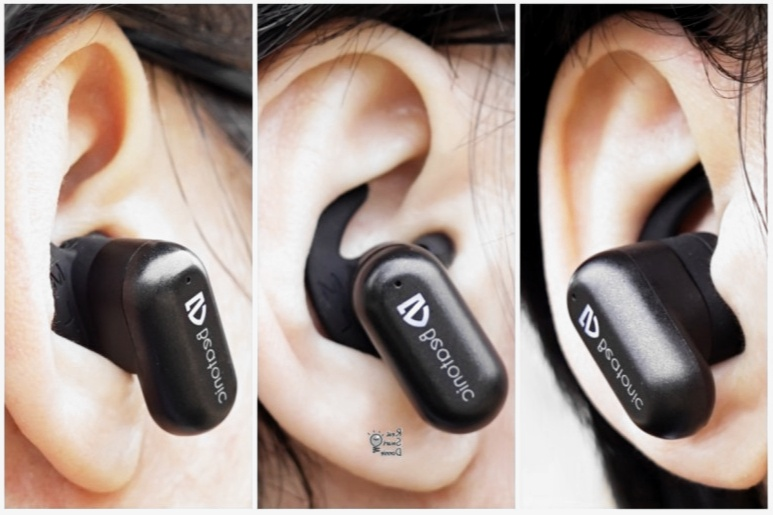earphone: (257, 17, 508, 494), (5, 12, 237, 495), (539, 13, 766, 492)
